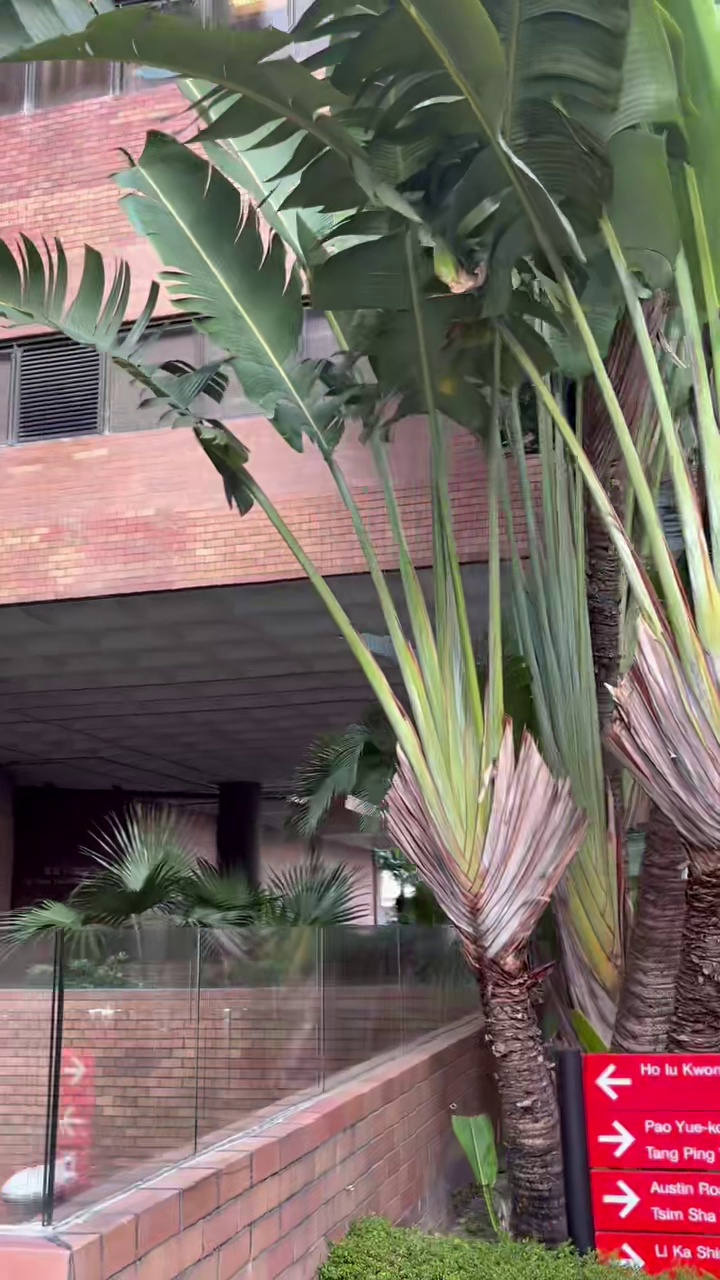Travellers-tree: (0, 0, 585, 1242)
